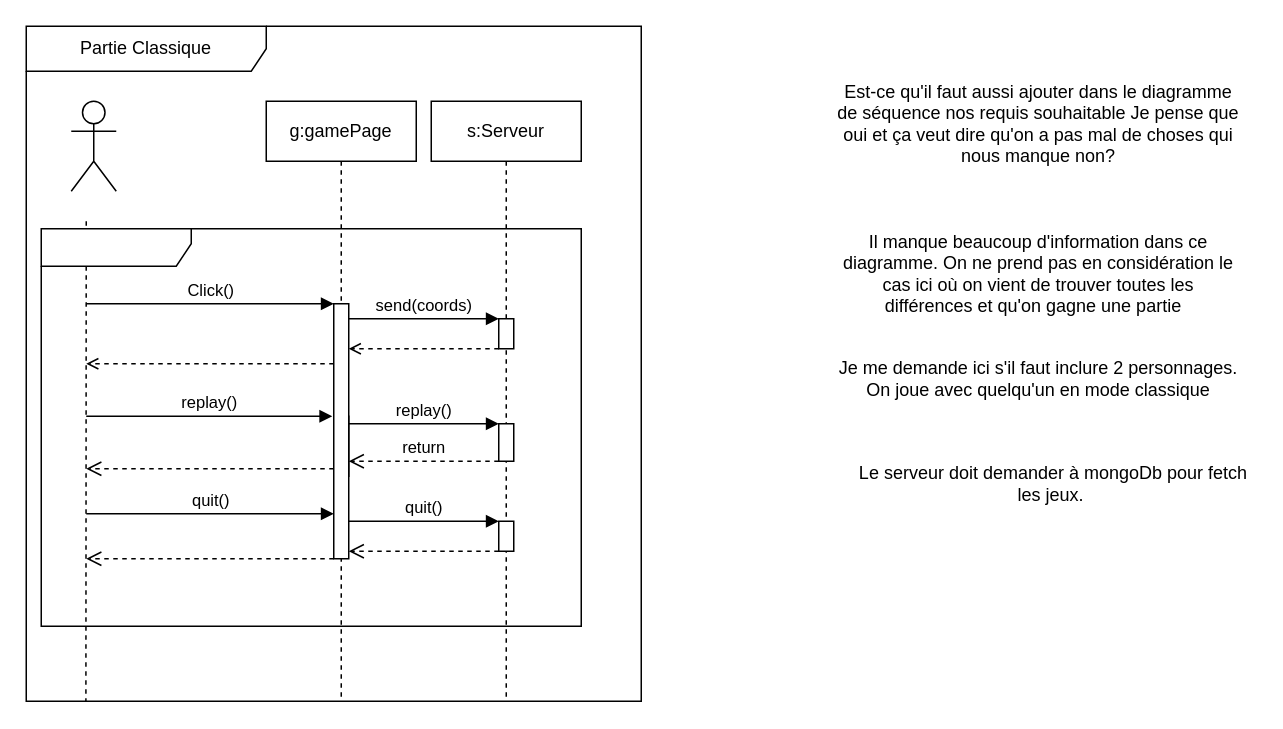
This 1283x729 diagram has some shape labels left out. Here are the shapes that lost their labels. From the top down, the centre of each, then its label:
point 93,145: Utilisateur
point 310,426: Loop(numDiff)
